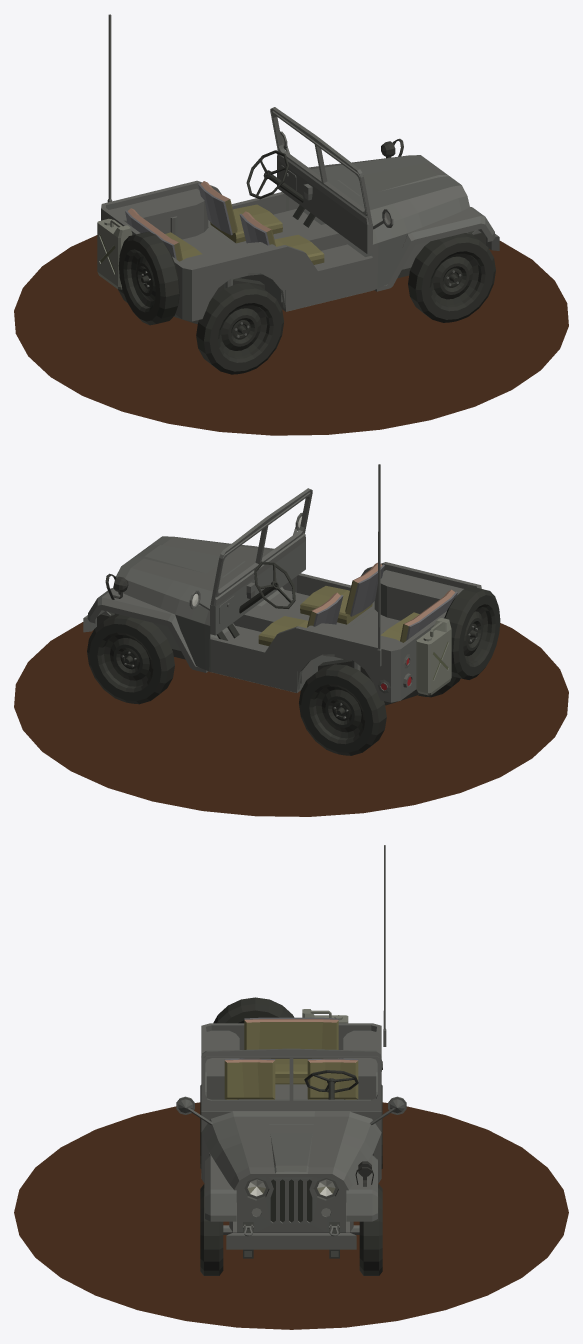
File: jeep.glb
3 renders of one model, top to bottom at view 1: azimuth 30°, elevation 25°; view 2: azimuth 150°, elevation 25°; view 3: azimuth 270°, elevation 25°, orthographic.
Parts seen in each view (by area): view 1: ground, jeep; view 2: ground, jeep; view 3: ground, jeep.
Boxes of the visible parts, <box> form: ground: <box>14,235,568,435</box>; jeep: <box>97,14,499,374</box>; ground: <box>14,622,568,816</box>; jeep: <box>83,464,500,755</box>; ground: <box>14,1102,568,1329</box>; jeep: <box>176,845,406,1275</box>.
Bounding box in the file's own units: 1199 × 721 × 1199.
Materials: 2 (1 with a texture image).
